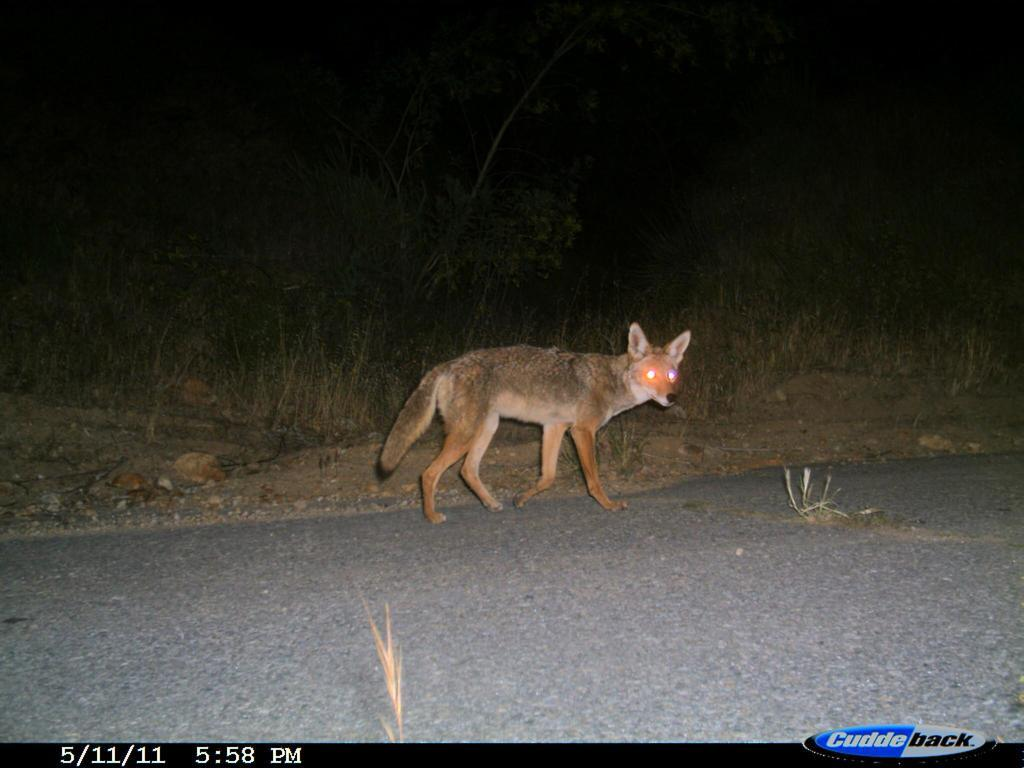coyote: (378, 326, 703, 528)
